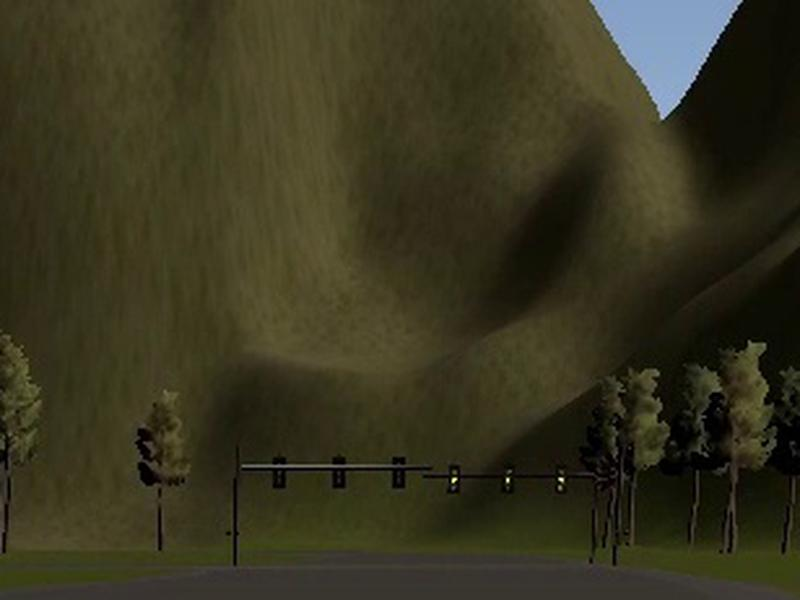Yellow: (445, 464, 460, 496), (501, 466, 515, 494), (554, 465, 566, 493)
